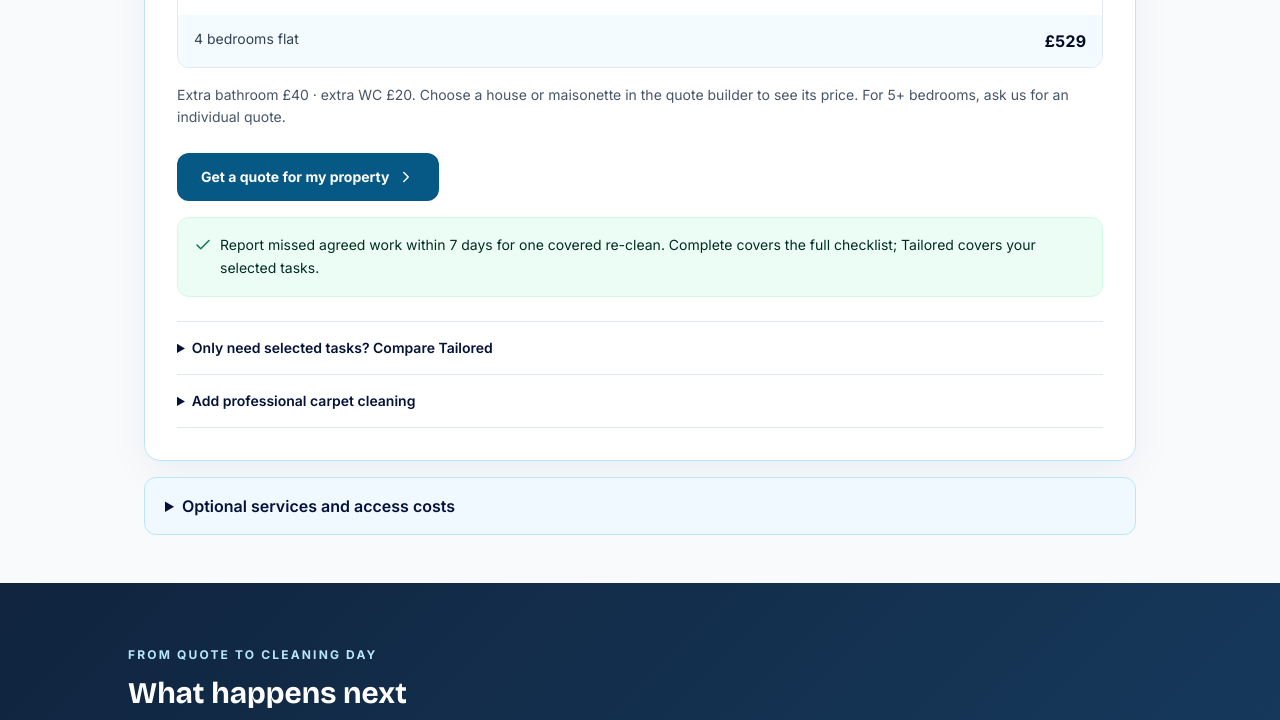
PricingPage — current service prices and meaningful comparisons › compares the actual EOT carpet add-on with the standalone bundle total
(page scrolled)
Click the heading "Add professional carpet cleaning".
click(304, 400)  # box [192,392,415,408]
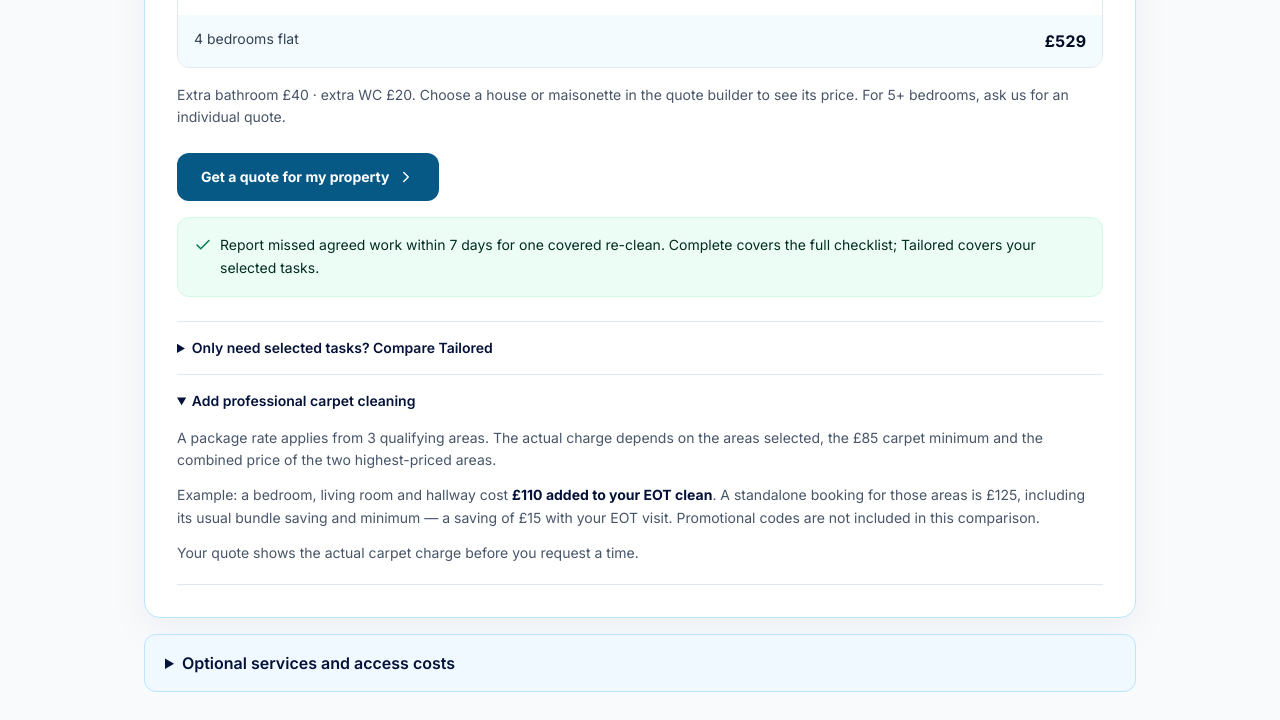
Now the text "Add professional carpet cleaning" shows "£110 added to your EOT clean", box [177,374,1103,584]
Now the text "Add professional carpet cleaning" shows "standalone booking for those areas is £125", box [177,374,1103,584]
Now the text "Add professional carpet cleaning" shows "saving of £15", box [420,509,669,526]
